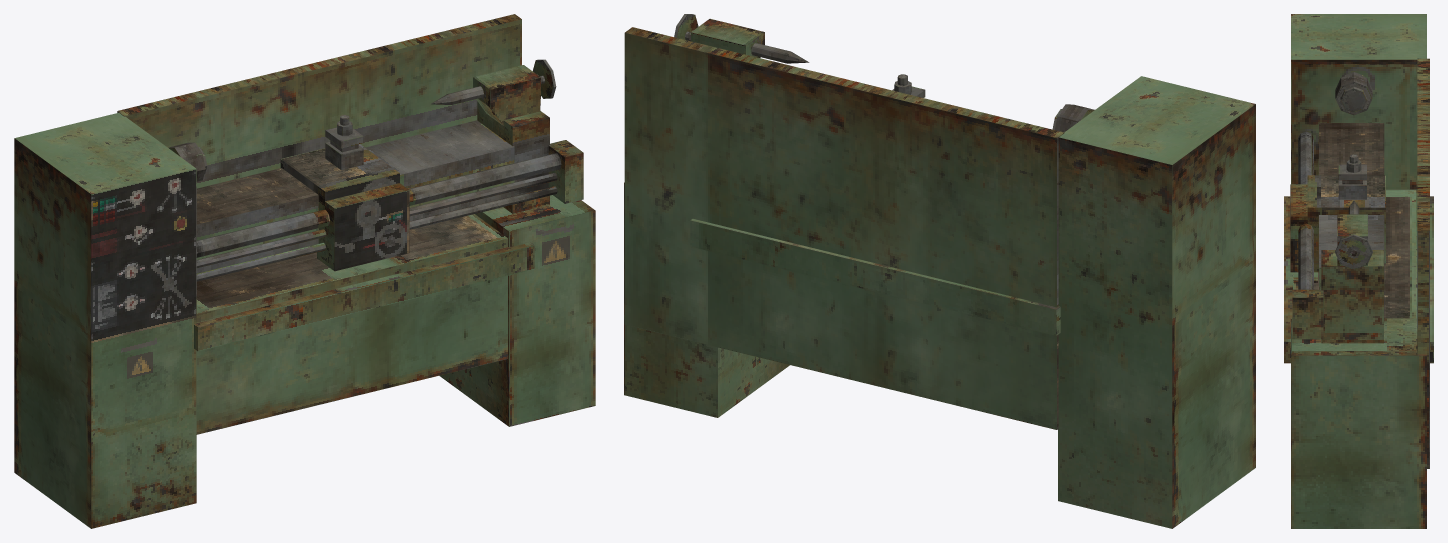
File: Lath.glb
The picture shows the model from 3 angles, left to right: view 1: azimuth 30°, elevation 25°; view 2: azimuth 150°, elevation 25°; view 3: azimuth 270°, elevation 25°; orthographic projection. The views are drawn at different scales.
Parts seen in each view (by area): view 1: Lathe; view 2: Lathe; view 3: Lathe.
Boxes of the visible parts, x1=… form: Lathe: x1=14, y1=14, x2=595, y2=528; Lathe: x1=624, y1=14, x2=1255, y2=528; Lathe: x1=1284, y1=14, x2=1433, y2=528.
Bounding box in the file's own units: 2.65 × 1.69 × 0.77.
Materials: 1 (1 with a texture image).
